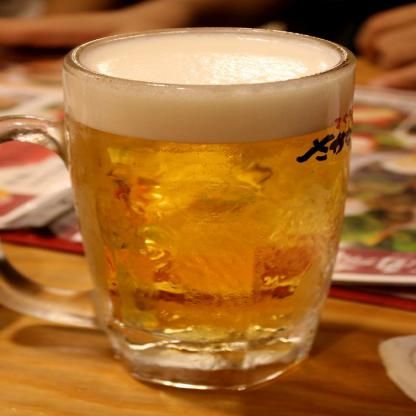drinking: (0, 27, 357, 391)
